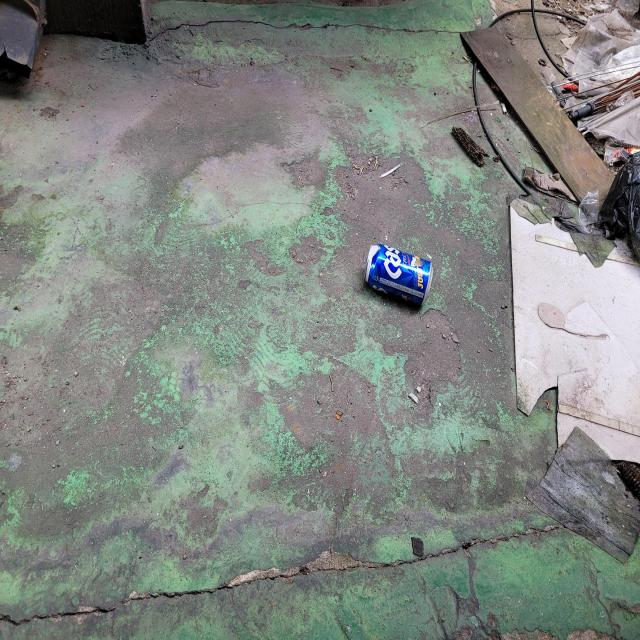can: (364, 243, 434, 305)
